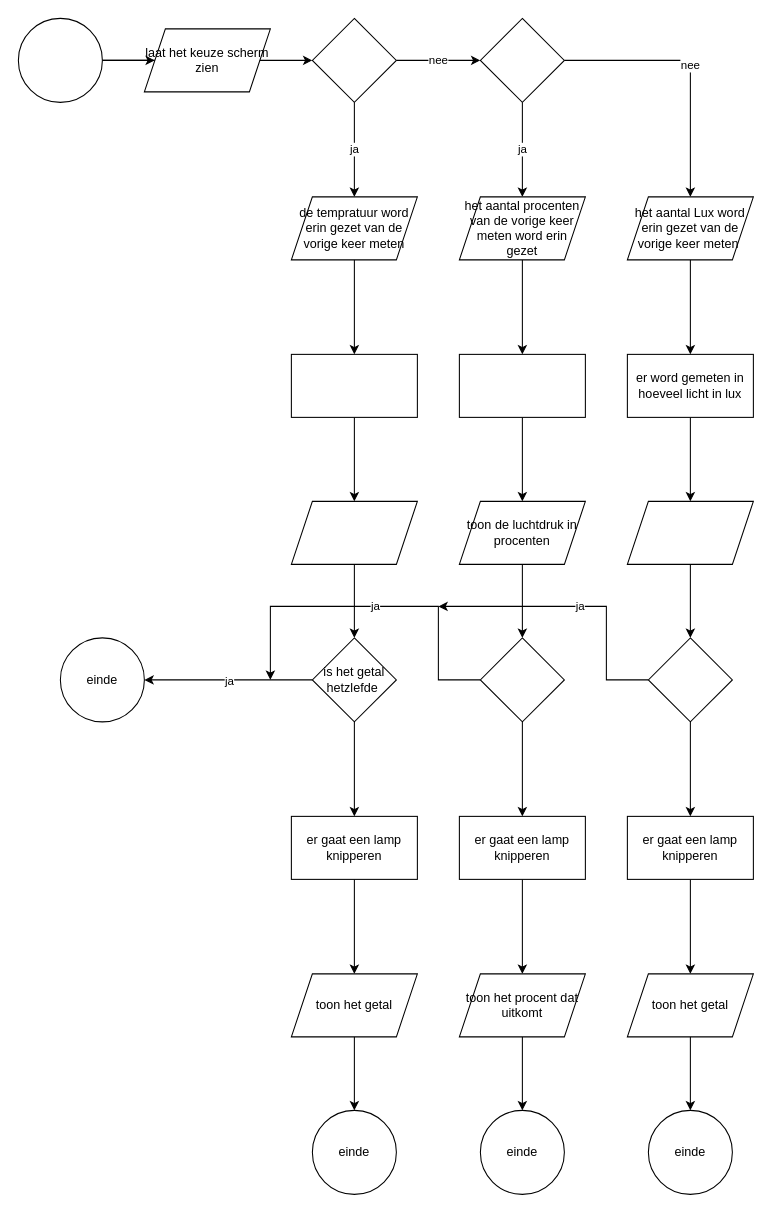
Some shapes in this 772 by 1213 pixel diagram are drawn without their labels. Each missing label, with the box of its shape:
er word gemeten in hoeveel procent luchtdruk er is: (458, 353, 585, 417)
er word opnieuw gemeten in kelvin: (290, 353, 417, 417)
is het getal hetzelfde: (647, 637, 732, 722)
is het procent het zelfde: (479, 637, 564, 722)
start: (17, 17, 102, 102)
toon de tempratuur in kelvin: (290, 500, 417, 564)
toon het licht in Lux: (626, 500, 753, 564)
wil je het in kelvin meten?: (311, 17, 396, 102)
wil je meten in luchtdruk?: (479, 17, 564, 102)
